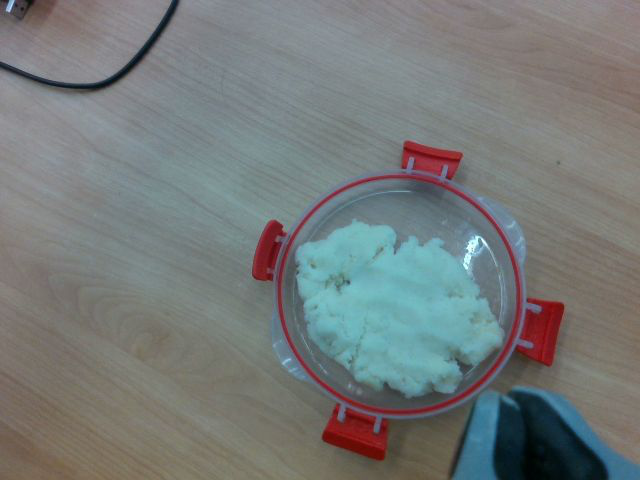mashed_potato: (298, 223, 501, 391)
